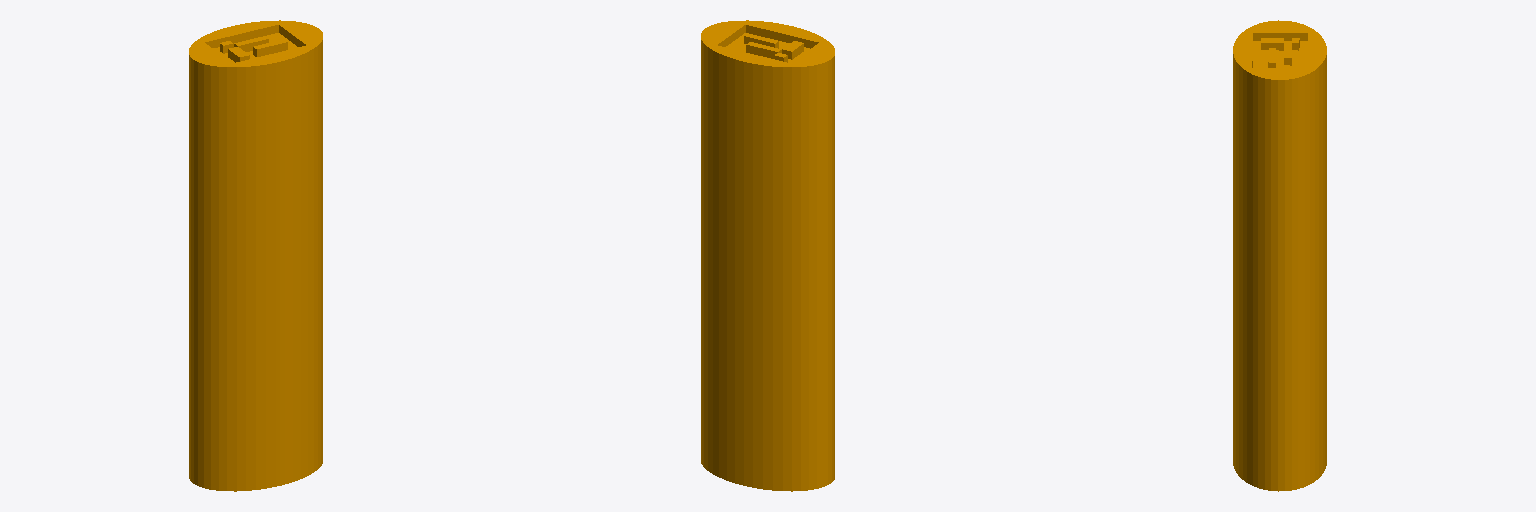
robot.urdf — 20_r_circle:
<?xml version="1.0" ?>
<robot name="20_r_circle">

    <link name="20_r_circle">
        <visual>
            <origin rpy="1.5707963267948966 0 0" xyz="0 0 0"/>
            <geometry>
                <mesh filename="Shapes/20_r_circle.obj" scale="0.8165 1 0.5443"/>
            </geometry>
        </visual>
        <collision>
            <origin rpy="1.5707963267948966 0 0" xyz="0 0 0"/>
            <geometry>
                <mesh filename="Shapes/20_r_circle.obj" scale="0.8165 1 0.5443"/>
            </geometry>
        </collision>
        <inertial>
            <mass value="0.3"/>
            <inertia ixx="0.000029435425" ixy="0.0" ixz="0.0" iyy="0.000029435425" iyz="0.0" izz="0.00000725805"/>
        </inertial>
    </link>

</robot>

--- Facts derived from the render (not from the file) ---
Views: 3 orthographic renders of the robot side by side, from view 1: azimuth 30°, elevation 25°; view 2: azimuth 150°, elevation 25°; view 3: azimuth 270°, elevation 25°.
Model 20_r_circle with 1 links and 0 joints (none), rooted at 20_r_circle, posed every joint at zero.
Visible links, largest first — view 1: 20_r_circle; view 2: 20_r_circle; view 3: 20_r_circle.
Boxes of the visible links, box(x1,y1,x2,y2) form: 20_r_circle: box(189, 20, 322, 491); 20_r_circle: box(701, 20, 834, 491); 20_r_circle: box(1233, 20, 1326, 491).
Size in the robot's own frame: 0.0326 by 0.0218 by 0.105 metres.
1 mesh visuals loaded from 1 distinct referenced files (1 OBJ).
